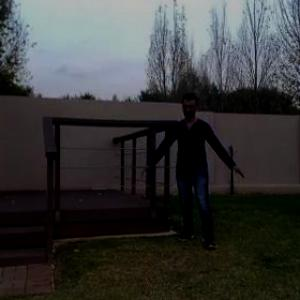land: (138, 82, 246, 267)
